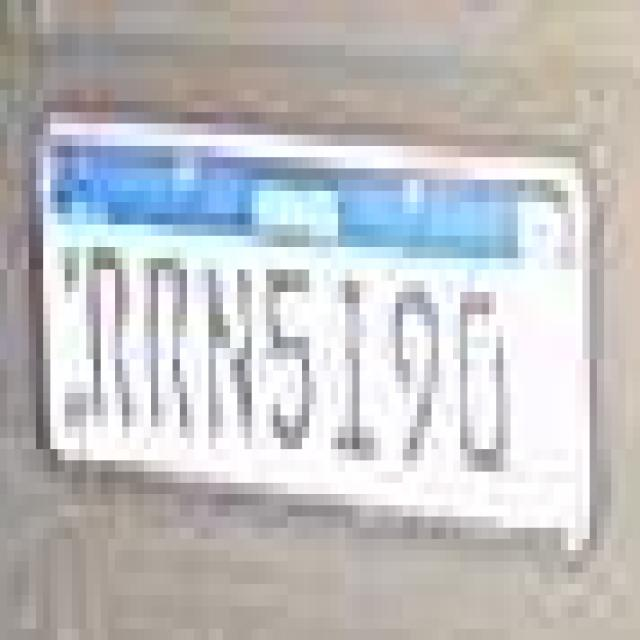0: (457, 283, 517, 465)
5: (259, 268, 322, 447)
9: (390, 266, 444, 468)
I: (328, 268, 382, 461)
N: (201, 264, 258, 451)
R: (141, 247, 199, 439), (82, 244, 143, 426)
